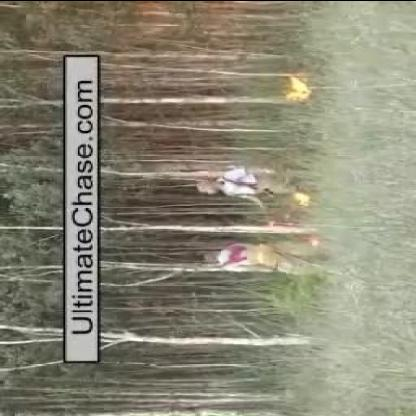foggia-v2-map80-epoch100 - v1 4323: (285, 75, 311, 99), (295, 190, 311, 204)
